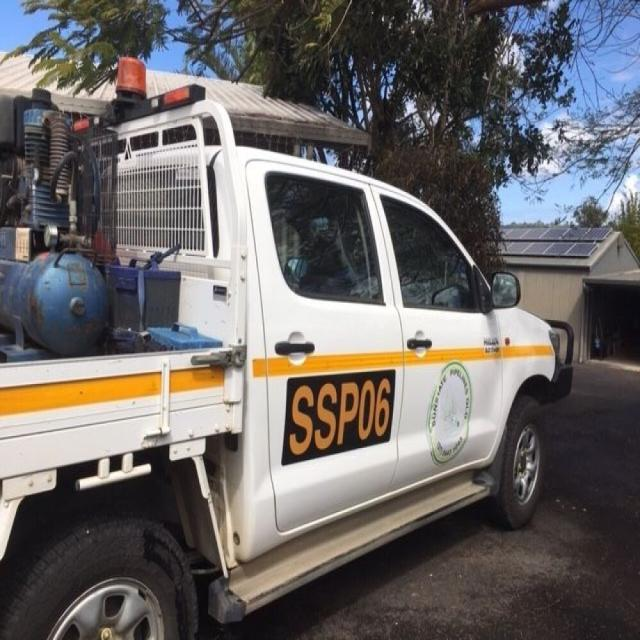light_vehicle: (2, 56, 585, 639)
